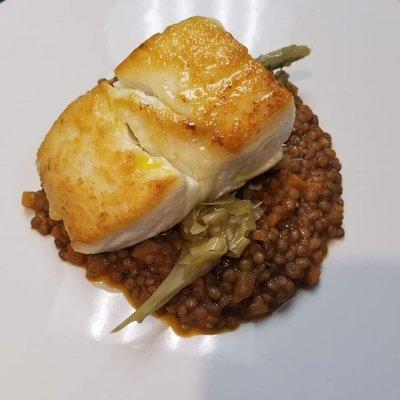soup: (36, 15, 351, 336)
